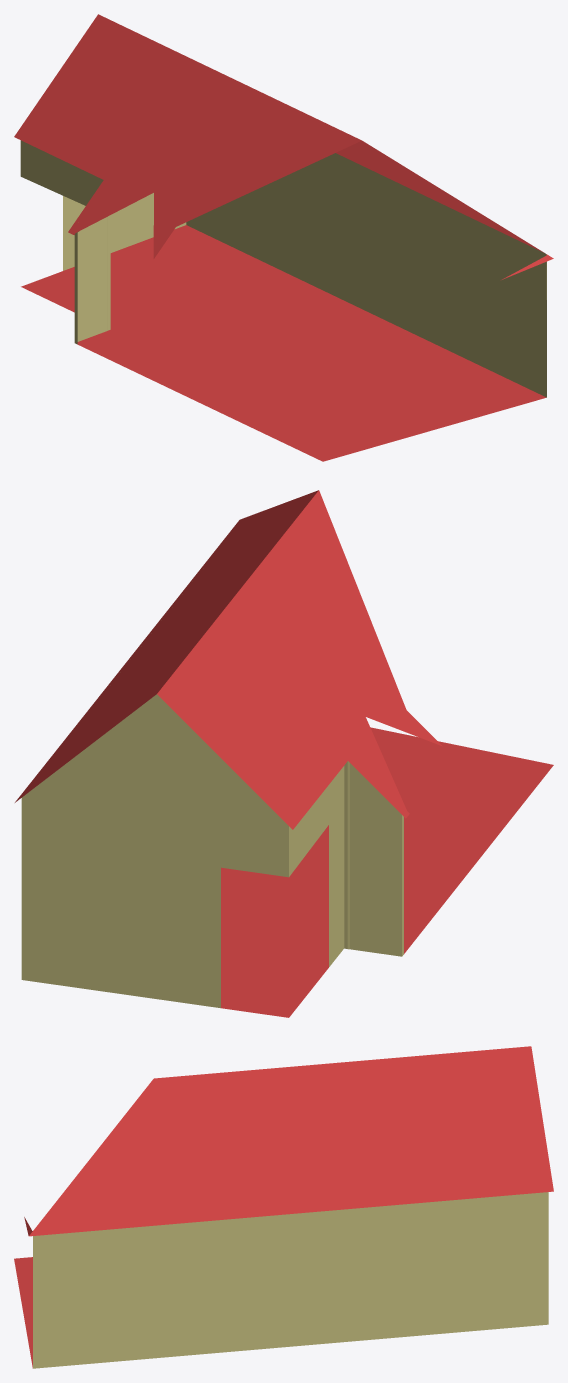
3 views of the same model, one above another, from view 1: azimuth 30°, elevation 25°; view 2: azimuth 150°, elevation 25°; view 3: azimuth 270°, elevation 25° (orthographic). The views are drawn at different scales.
Bounding box in the file's own units: 18.61 × 29.24 × 13.9.
